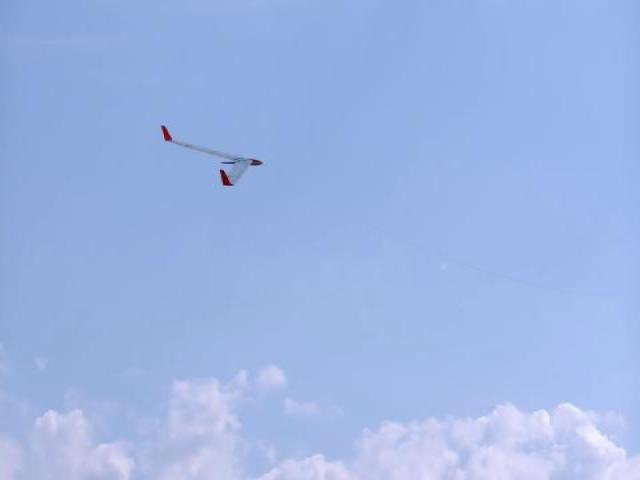flying wing: (158, 120, 263, 192)
